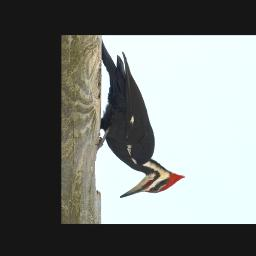Woodpecker: (98, 52, 189, 200)
